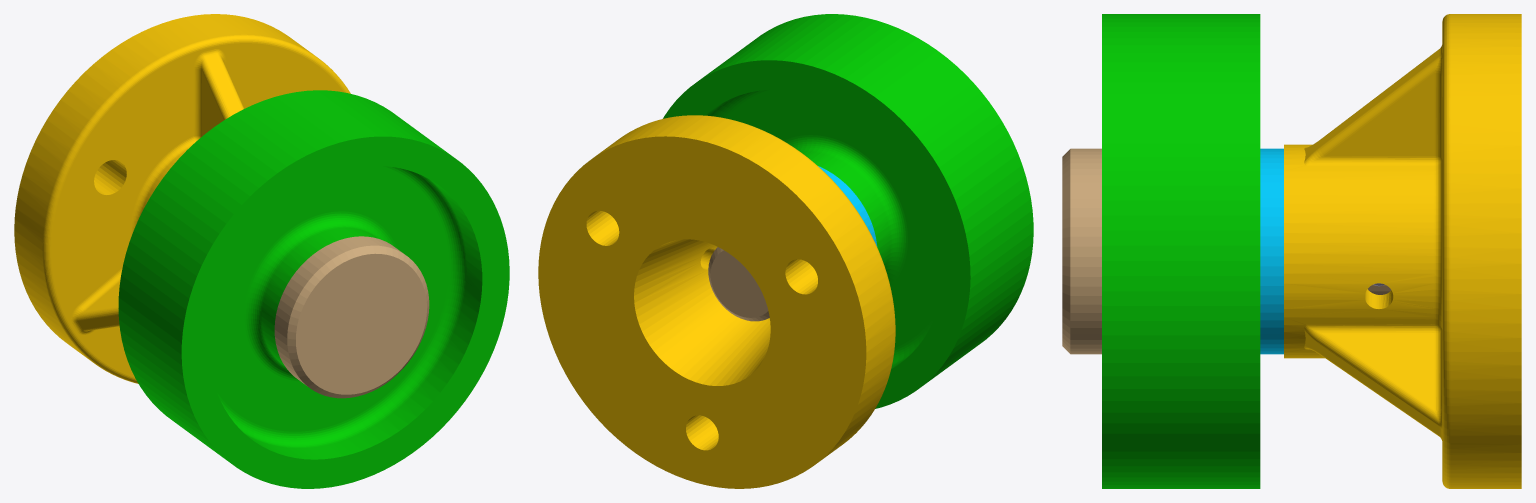
Rendered from spindle_assembly.glb.
The picture shows the model from 3 angles, left to right: view 1: azimuth 30°, elevation 25°; view 2: azimuth 150°, elevation 25°; view 3: azimuth 270°, elevation 25°; orthographic projection. The views are drawn at different scales.
Visible parts, largest first — view 1: Node1; view 2: Node1; view 3: Node1.
Boxes of the visible parts, x1,y1,x2,y2 form: Node1: (14, 14, 509, 488); Node1: (538, 14, 1033, 488); Node1: (1062, 14, 1521, 488).
Size of the model in its own units: 300 by 300 by 290.
